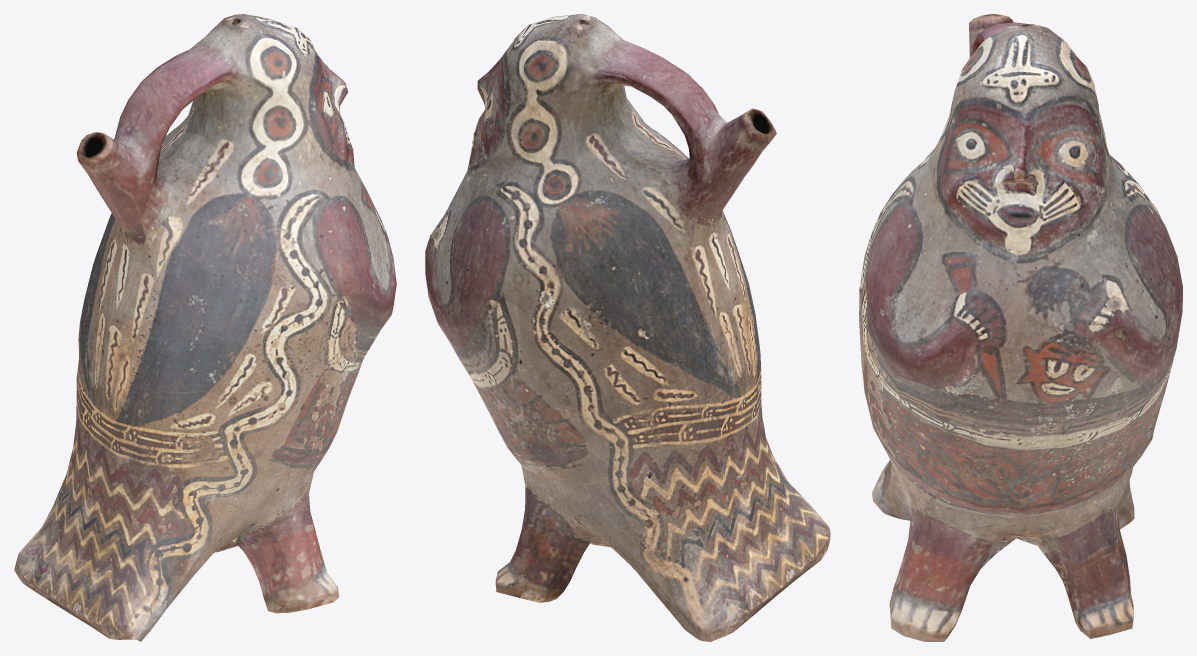
The model's file is objeto_19_nasca.glb.
The picture shows the model from 3 angles, left to right: view 1: azimuth 30°, elevation 25°; view 2: azimuth 150°, elevation 25°; view 3: azimuth 270°, elevation 25°; orthographic projection. The views are drawn at different scales.
Visible parts, largest first — view 1: Box002_02 - Default_0; view 2: Box002_02 - Default_0; view 3: Box002_02 - Default_0.
Boxes of the visible parts, x1=… form: Box002_02 - Default_0: x1=14, y1=14, x2=396, y2=641; Box002_02 - Default_0: x1=425, y1=14, x2=830, y2=641; Box002_02 - Default_0: x1=859, y1=14, x2=1182, y2=641.
Bounding box in the file's own units: 50.16 × 85.46 × 41.89.
Materials: 1 (1 with a texture image).
